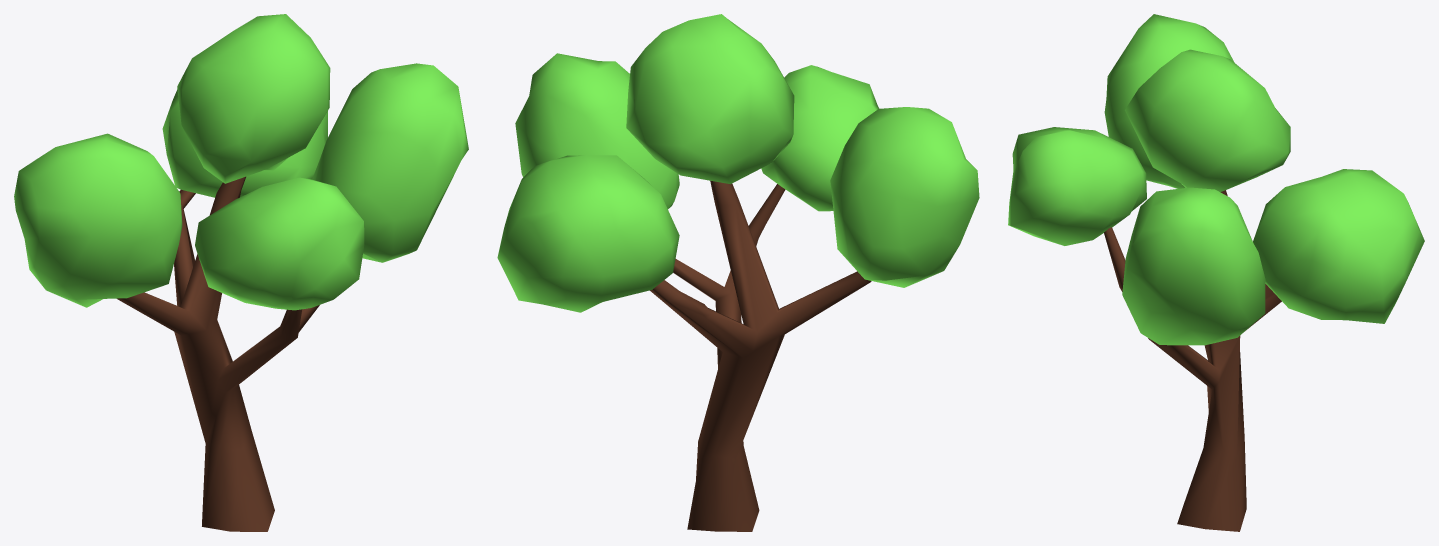
Rendered from Tree03.fbx.
3 renders of one model, left to right at view 1: azimuth 30°, elevation 25°; view 2: azimuth 150°, elevation 25°; view 3: azimuth 270°, elevation 25°, orthographic. The views are drawn at different scales.
Parts seen in each view (by area): view 1: Tree03; view 2: Tree03; view 3: Tree03.
Boxes of the visible parts, left/top/right/bottom form: Tree03: left=14, top=14, right=468, bottom=531; Tree03: left=497, top=14, right=979, bottom=531; Tree03: left=1008, top=14, right=1424, bottom=531.
Bounding box in the file's own units: 629 × 696 × 550.
